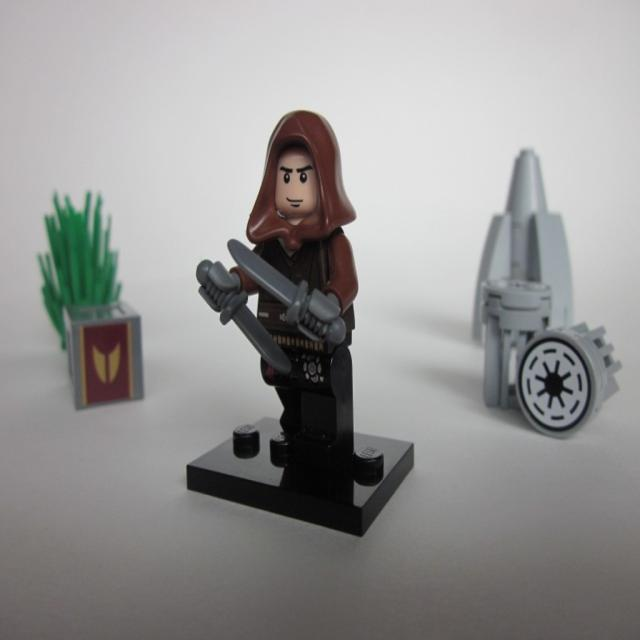Toy: (188, 105, 414, 538), (34, 184, 152, 410), (478, 145, 576, 409), (224, 232, 346, 349), (510, 317, 624, 440), (196, 257, 291, 376)
